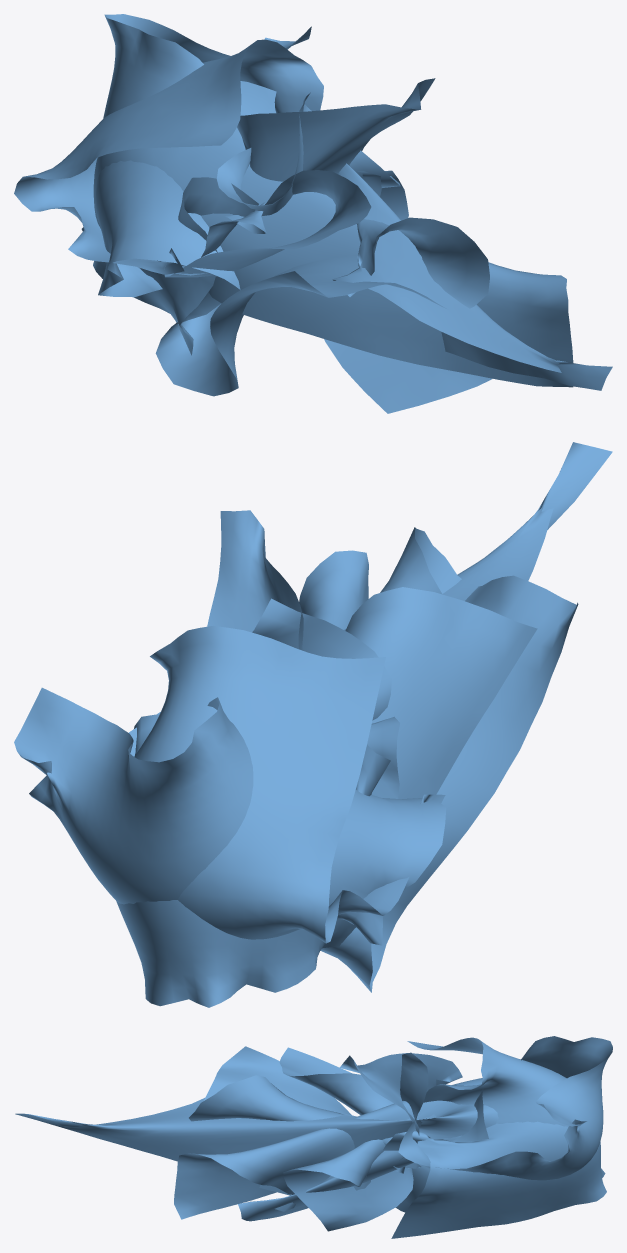
The model's file is smoke.glb.
3 views of the same model, one above another, from view 1: azimuth 30°, elevation 25°; view 2: azimuth 150°, elevation 25°; view 3: azimuth 270°, elevation 25° (orthographic). The views are drawn at different scales.
Visible parts, largest first — view 1: Object_7; view 2: Object_7; view 3: Object_7.
Boxes of the visible parts, left/top/right/bottom form: Object_7: left=14, top=14, right=612, bottom=413; Object_7: left=14, top=442, right=612, bottom=1007; Object_7: left=15, top=1036, right=612, bottom=1238.
Size of the model in its own units: 158 by 169 by 425.
